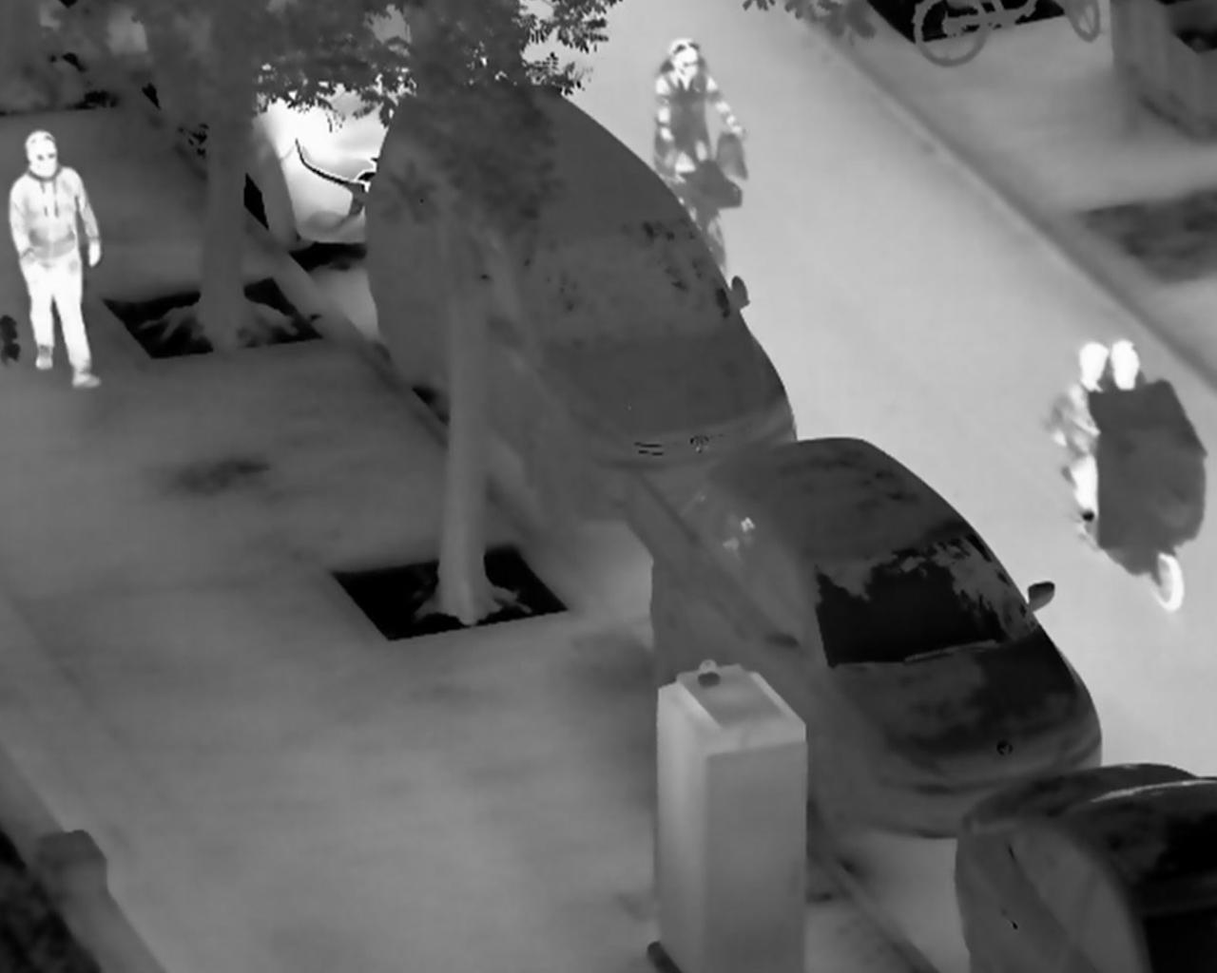person: (6, 129, 106, 390), (650, 39, 744, 199), (1094, 333, 1205, 459), (1059, 342, 1112, 511)
